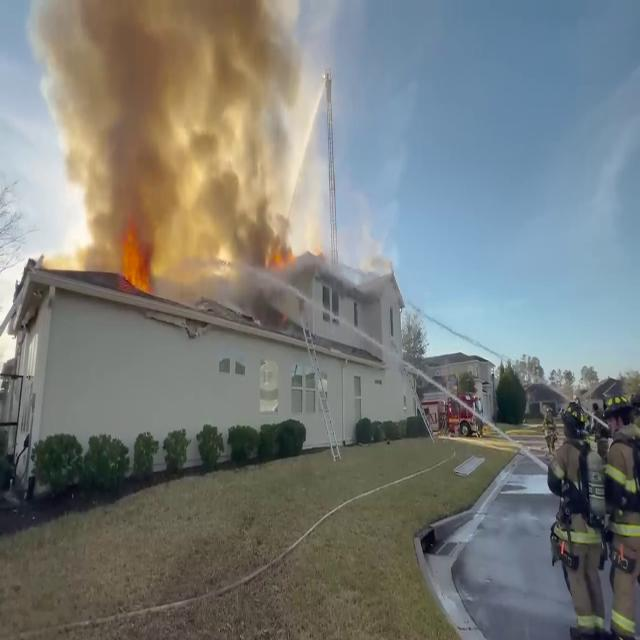Fire: (119, 230, 148, 294)
Smoke: (24, 0, 330, 311)
